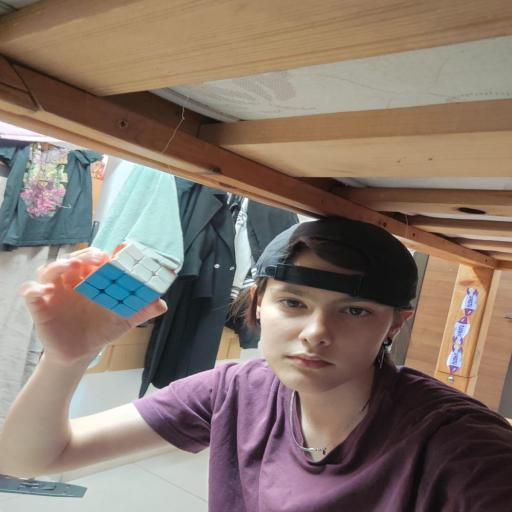Rubiks Cube: (75, 240, 180, 319)
